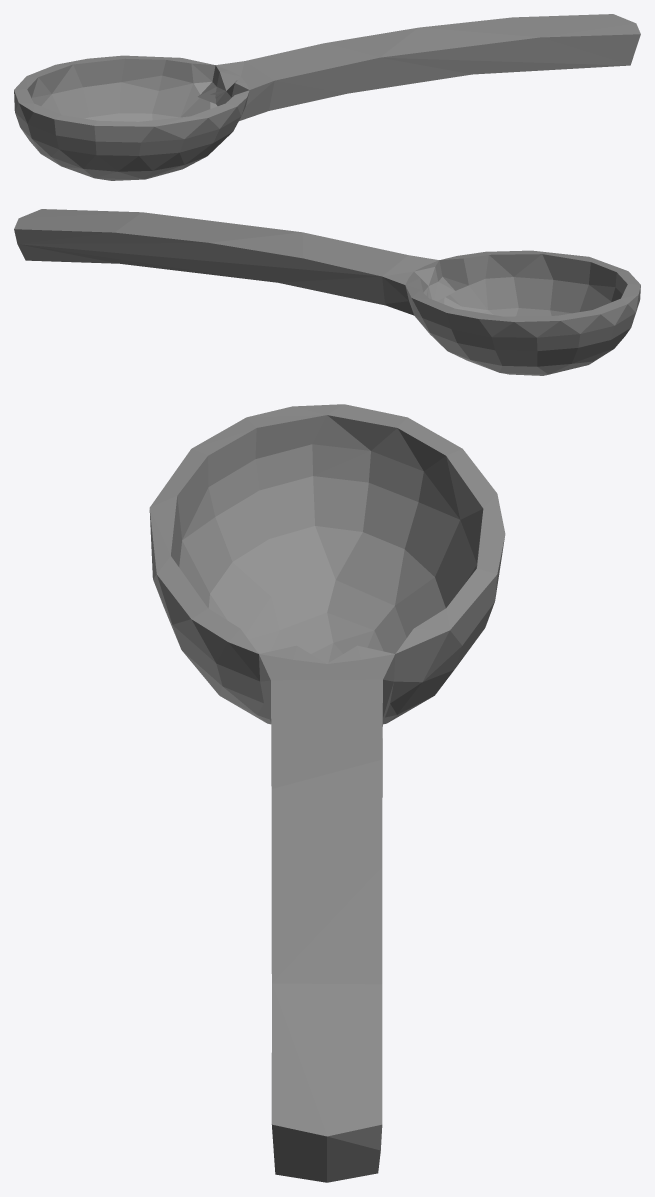
Rendered from Spoon_1.fbx.
The picture shows the model from 3 angles, top to bottom: view 1: azimuth 30°, elevation 25°; view 2: azimuth 150°, elevation 25°; view 3: azimuth 270°, elevation 25°; orthographic projection. The views are drawn at different scales.
Visible parts, largest first — view 1: Spoon; view 2: Spoon; view 3: Spoon.
Boxes of the visible parts, box(x1,y1,x2,y2) form: Spoon: box(14, 14, 640, 180); Spoon: box(14, 209, 640, 375); Spoon: box(149, 404, 505, 1182).
Size of the model in its own units: 42.89 by 6.41 by 10.78.
